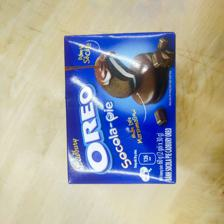Oreo: (62, 33, 177, 185)
